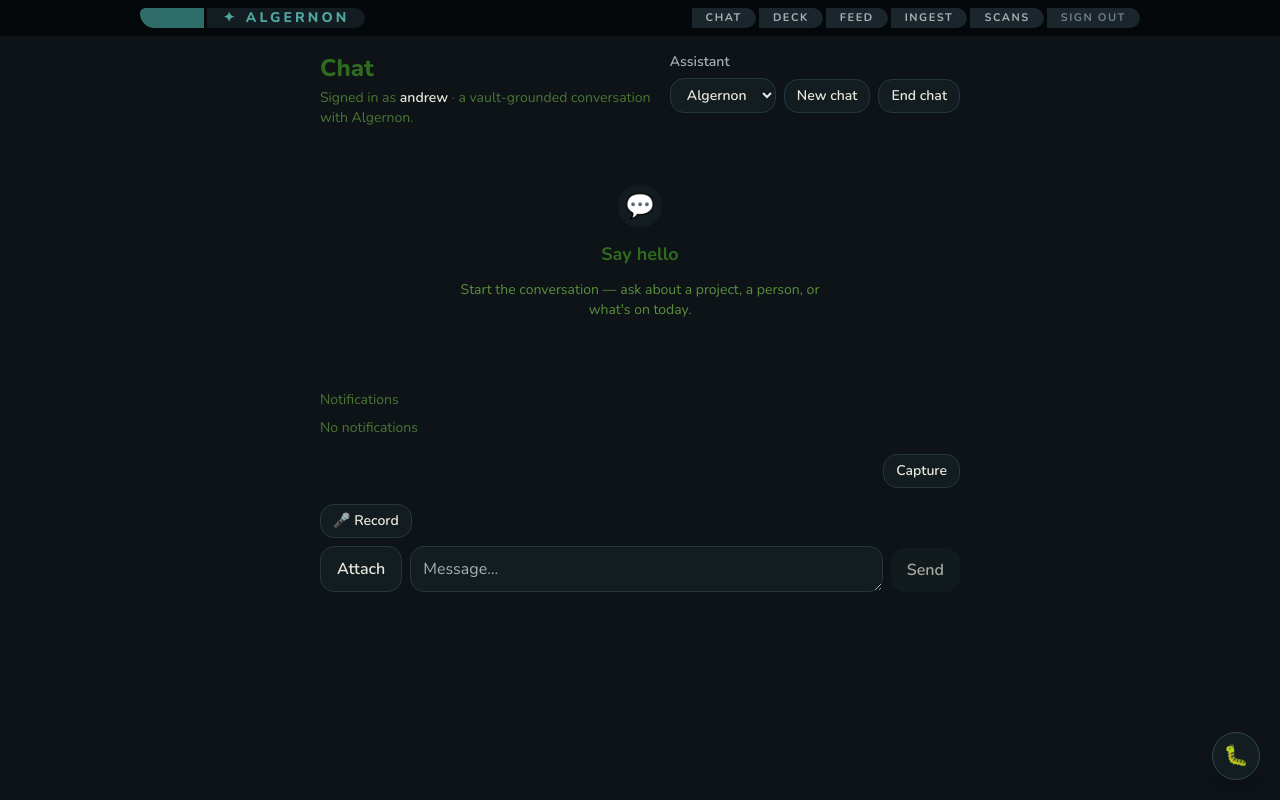
#99 — the recorded instance is the one being viewed › POSITIVE CONTROL — the home context still records home
The width and height of the screenshot is (1280, 800).
Expected: the dropdown with test id "chat-target" is shown, [670,78,776,113]
Click the button with test id "report-bug-fab" at (1236, 756), box [1212,732,1260,780]
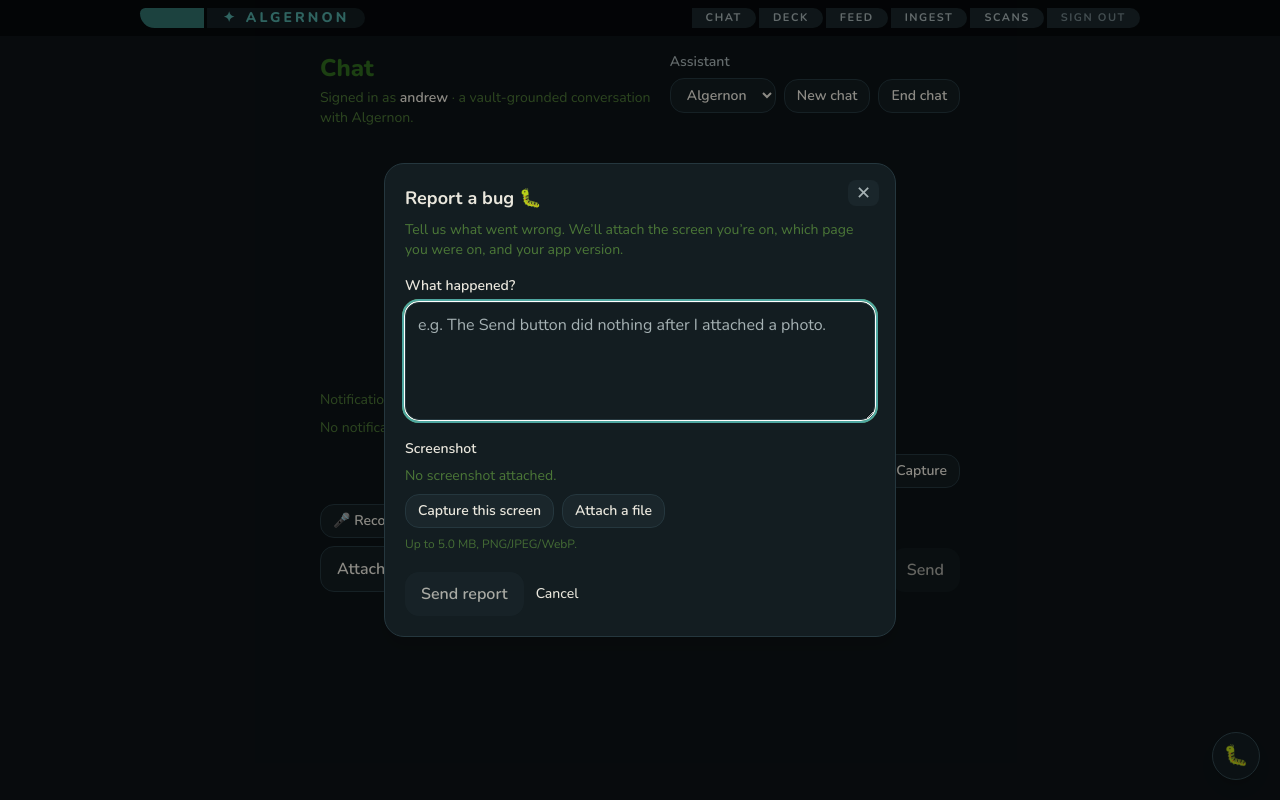
Expected: the dialog with test id "report-bug-modal" is shown, [384,163,896,637]
Type "The send button did nothing." into the text box with test id "report-bug-body" at (640, 361), box [405,302,875,420]
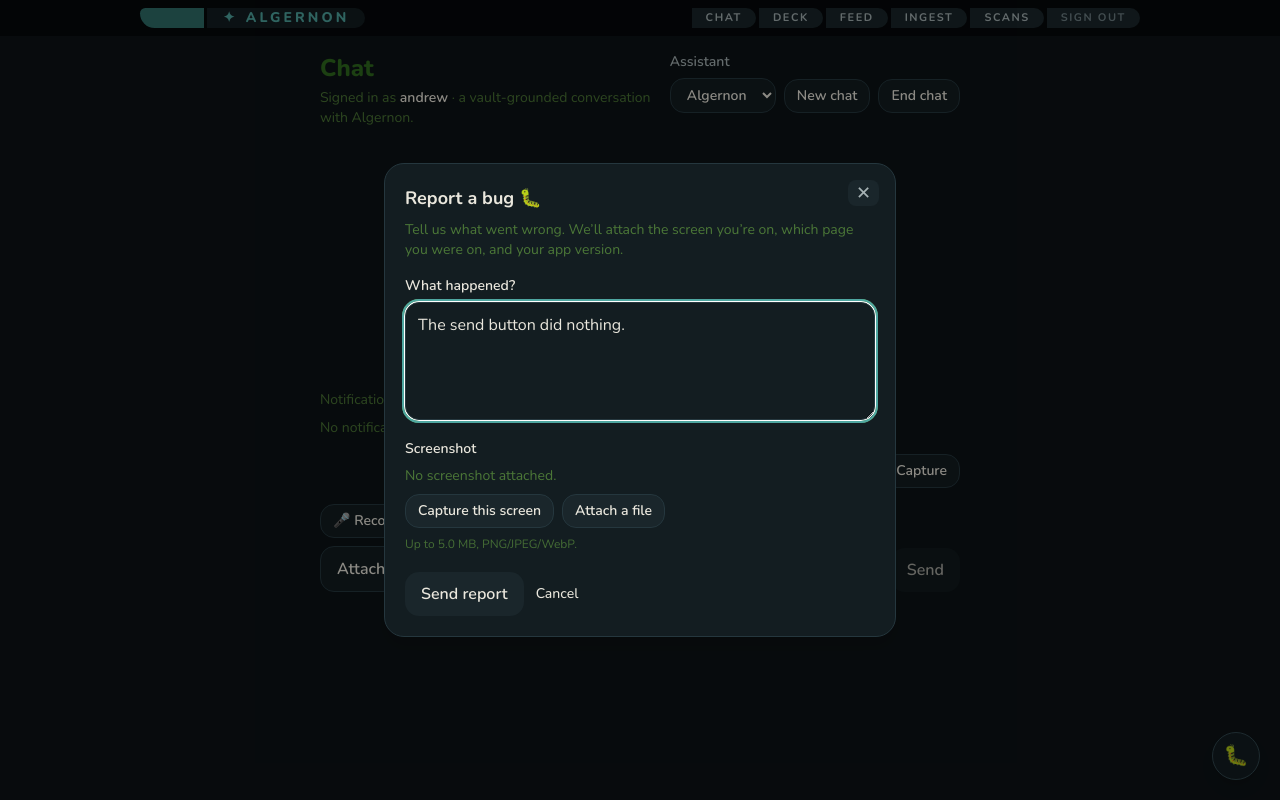
Click the button with test id "report-bug-submit" at (464, 594), box [405,572,524,616]
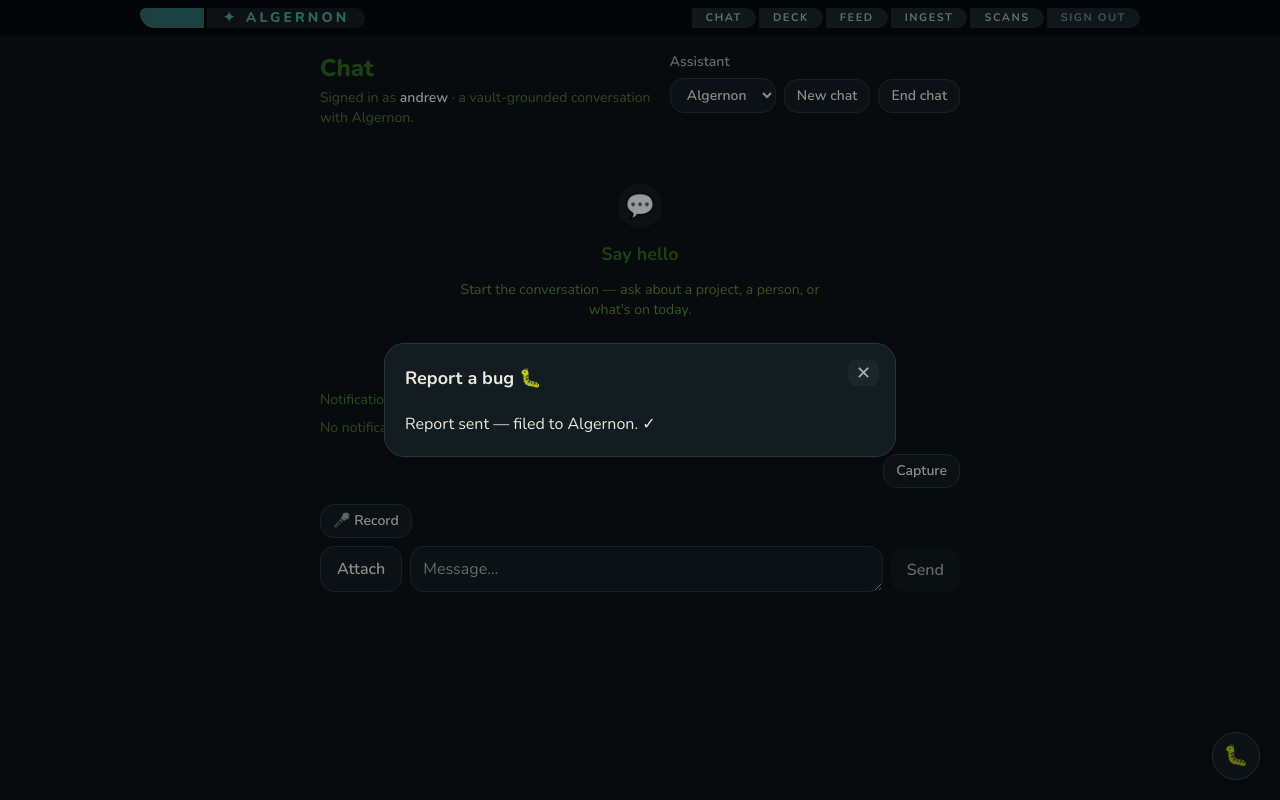
Expected: the text "Report sent — filed to Algernon. ✓" is shown, [405,413,656,435]
